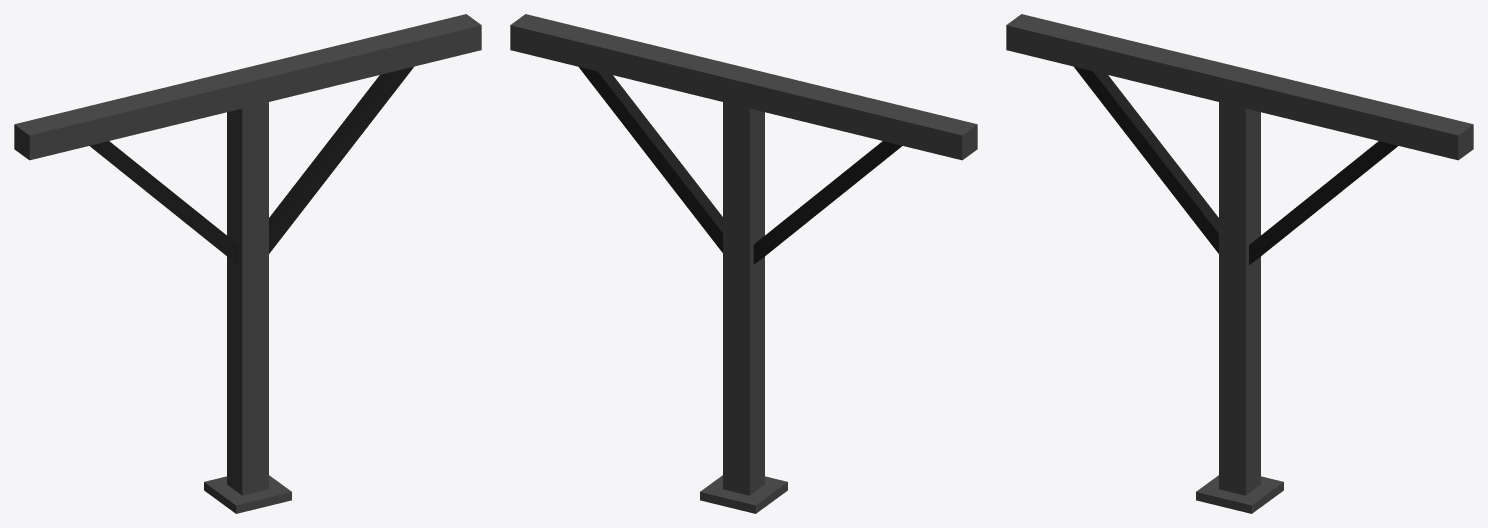
The model's file is PunchingBagStand.fbx.
The picture shows the model from 3 angles, left to right: view 1: azimuth 30°, elevation 25°; view 2: azimuth 150°, elevation 25°; view 3: azimuth 330°, elevation 25°; orthographic projection.
Parts seen in each view (by area): view 1: Cube.010; view 2: Cube.010; view 3: Cube.010.
Boxes of the visible parts, box(x1,y1,x2,y2) form: Cube.010: box(14, 14, 481, 513); Cube.010: box(510, 14, 977, 513); Cube.010: box(1006, 14, 1473, 513).
Bounding box in the file's own units: 1062 × 943 × 131.
